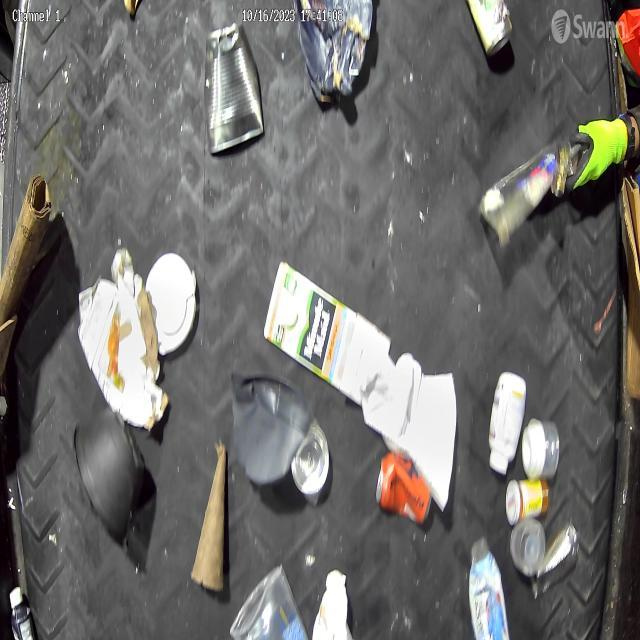can: (202, 26, 268, 160), (370, 445, 434, 544), (279, 422, 337, 504)
plastic_bottle: (465, 524, 508, 640)
